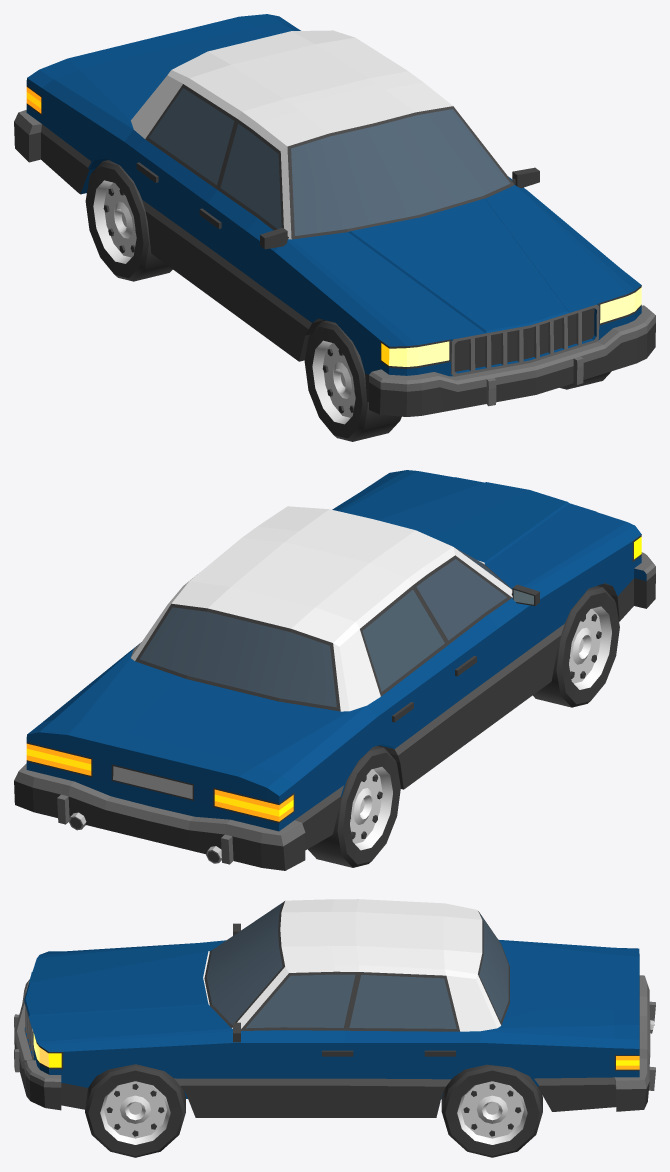
The model's file is Classic_Car_9.glb.
3 renders of one model, top to bottom at view 1: azimuth 30°, elevation 25°; view 2: azimuth 150°, elevation 25°; view 3: azimuth 270°, elevation 25°, orthographic. The views are drawn at different scales.
Parts seen in each view (by area): view 1: Classic Car_9, Classic Car_9 FR Tire, Classic Car_9 BR Tire; view 2: Classic Car_9, Classic Car_9 BR Tire, Classic Car_9 FR Tire; view 3: Classic Car_9, Classic Car_9 BL Tire, Classic Car_9 FL Tire.
Boxes of the visible parts, left/top/right/bottom form: Classic Car_9: left=14, top=14, right=655, bottom=416; Classic Car_9 FR Tire: left=304, top=320, right=401, bottom=441; Classic Car_9 BR Tire: left=85, top=160, right=172, bottom=281; Classic Car_9: left=14, top=470, right=655, bottom=870; Classic Car_9 BR Tire: left=307, top=746, right=400, bottom=867; Classic Car_9 FR Tire: left=533, top=586, right=619, bottom=707; Classic Car_9: left=14, top=899, right=655, bottom=1117; Classic Car_9 BL Tire: left=441, top=1064, right=542, bottom=1157; Classic Car_9 FL Tire: left=85, top=1064, right=185, bottom=1157.
Size of the model in its own units: 2.02 by 1.53 by 4.97.
Materials: 2 (2 with a texture image).
